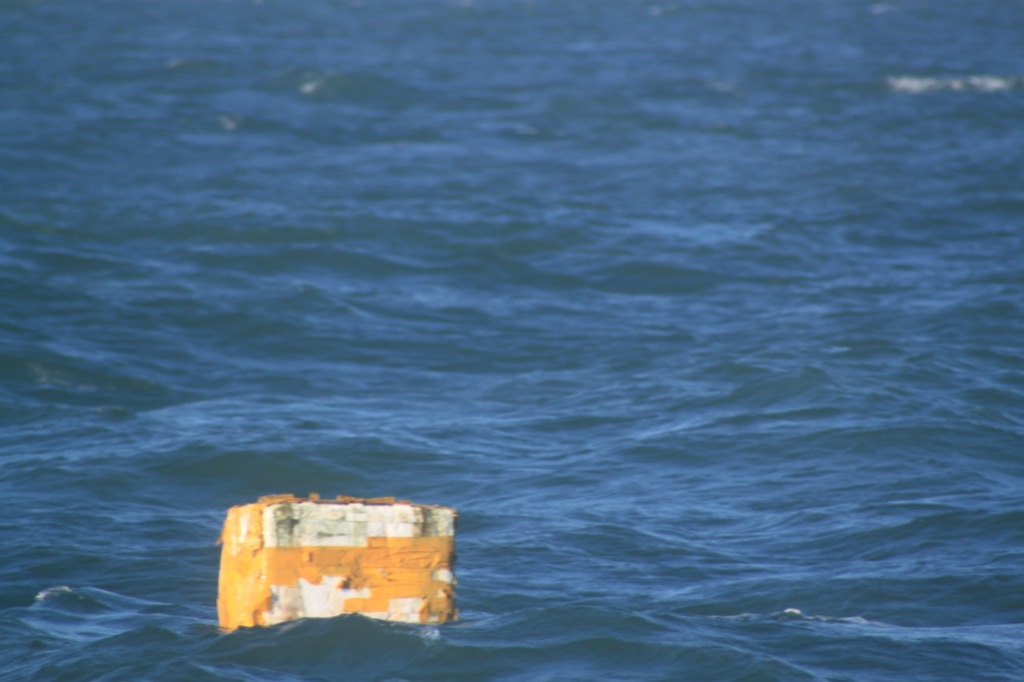plastic: (170, 441, 494, 677)
